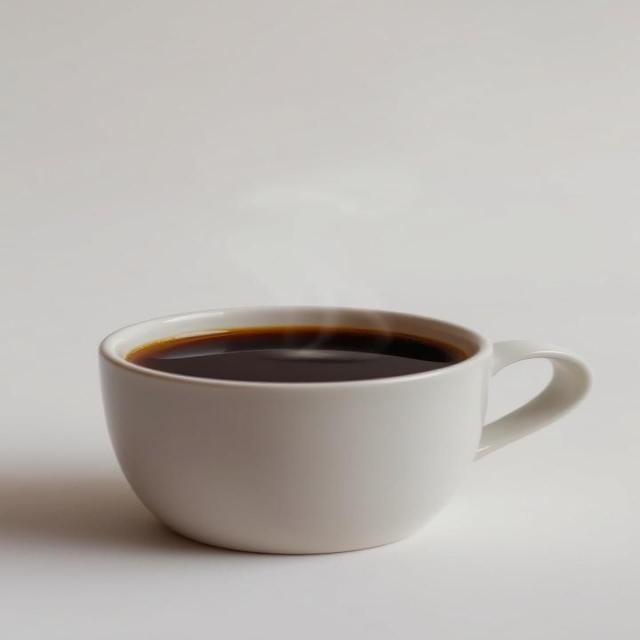glass cup: (98, 305, 594, 557)
